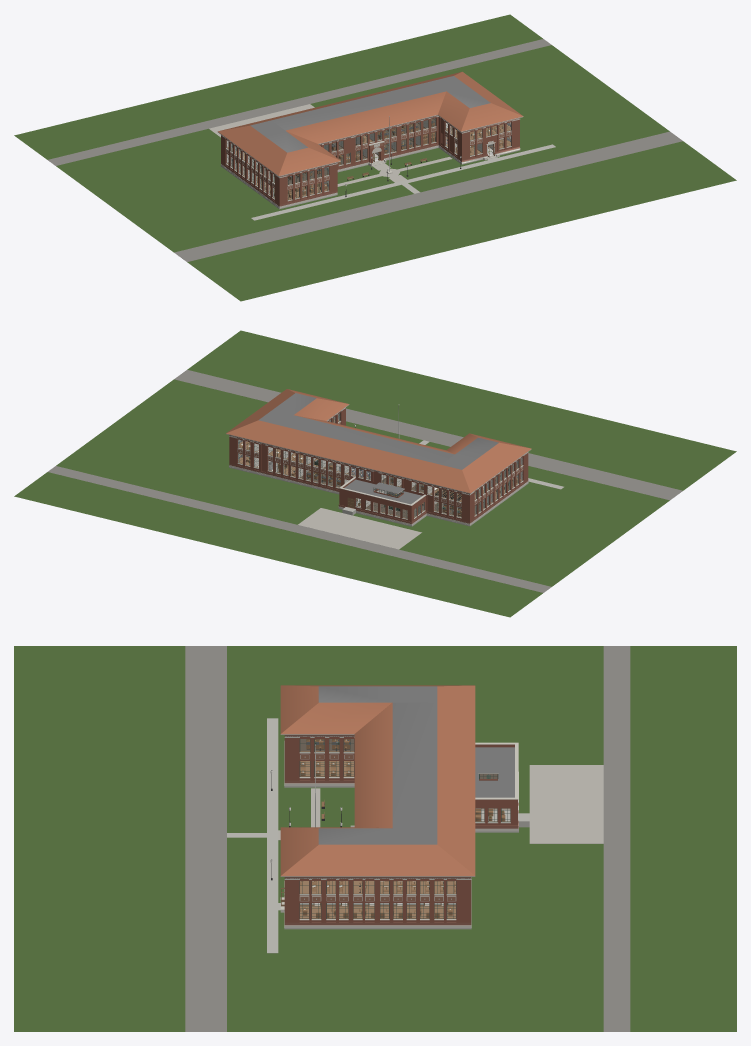
File: langley.glb
The picture shows the model from 3 angles, top to bottom: view 1: azimuth 30°, elevation 25°; view 2: azimuth 150°, elevation 25°; view 3: azimuth 270°, elevation 25°; orthographic projection. The views are drawn at different scales.
Visible parts, largest first — view 1: GROUND, ROOF, EXT, WINF, INT2, INT1, PROXY2; view 2: GROUND, ROOF, EXT, WINF, INT1, INT2; view 3: GROUND, ROOF, EXT, INT1, WINF, INT2, PROXY2.
Part boxes in pixels (x1,y1,x2,y2): GROUND: (14, 14, 736, 301); ROOF: (217, 71, 523, 176); EXT: (220, 115, 520, 209); WINF: (226, 118, 510, 200); INT2: (248, 118, 510, 184); INT1: (227, 136, 510, 199); PROXY2: (261, 120, 502, 180); GROUND: (14, 330, 736, 617); ROOF: (226, 389, 531, 493); EXT: (229, 407, 528, 526); WINF: (238, 413, 522, 518); INT1: (238, 455, 521, 518); INT2: (238, 418, 521, 501); GROUND: (14, 646, 736, 1031); ROOF: (280, 685, 498, 876); EXT: (280, 735, 529, 929); INT1: (300, 747, 514, 917); WINF: (281, 739, 510, 918); INT2: (300, 739, 455, 893); PROXY2: (300, 739, 455, 892).
Size of the model in its own units: 146 by 16.03 by 116.
